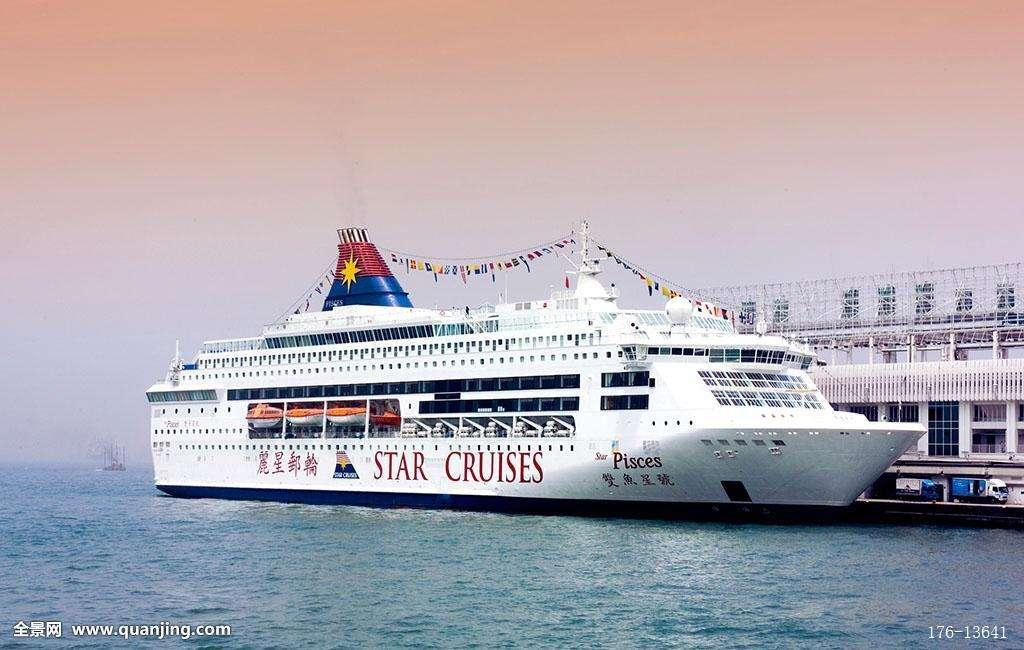youlun: (142, 224, 913, 508)
